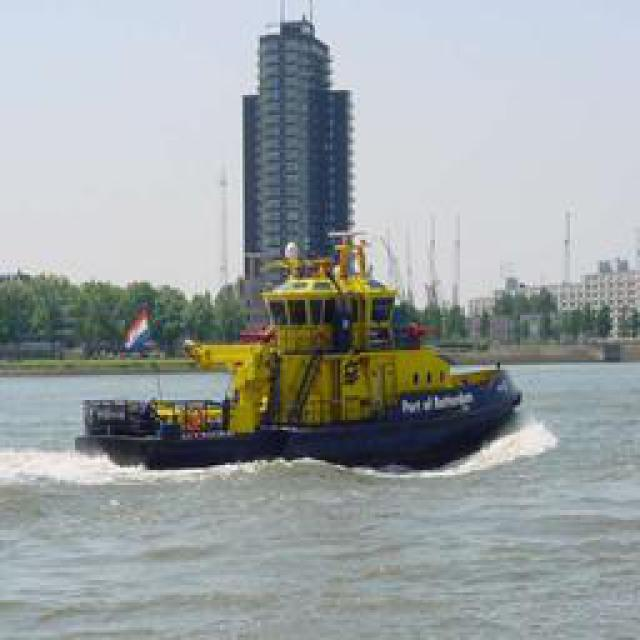Ship: (87, 215, 527, 473)
